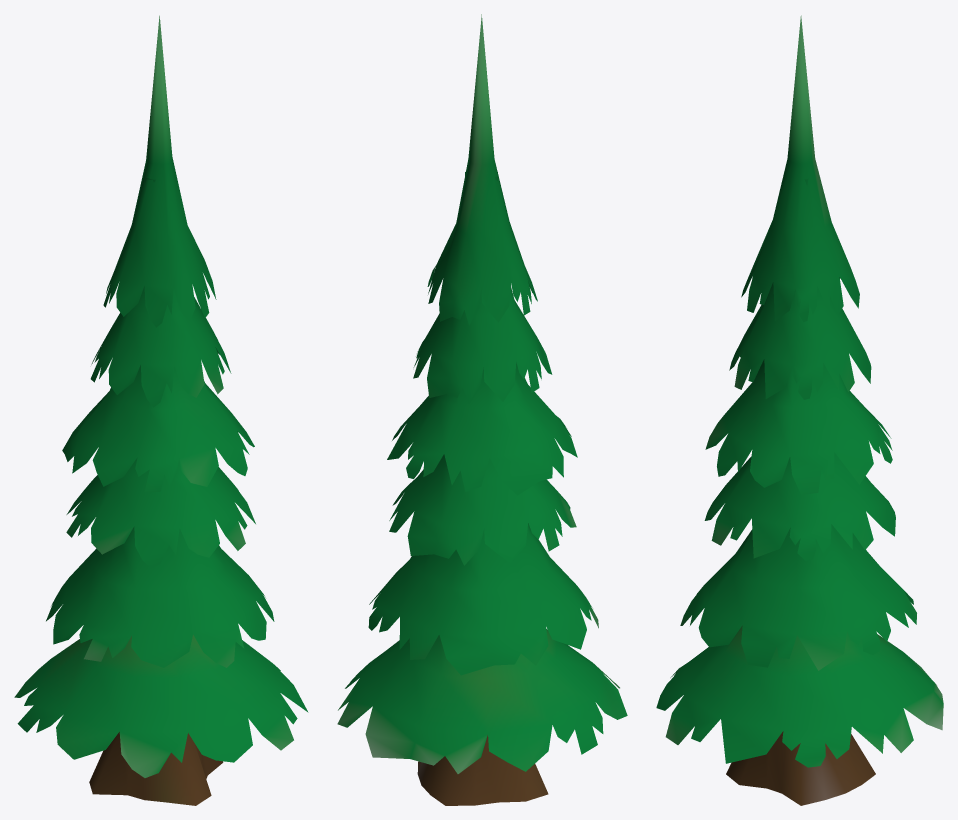
The model's file is Tree.fbx.
3 views of the same model, side by side, from view 1: azimuth 30°, elevation 25°; view 2: azimuth 150°, elevation 25°; view 3: azimuth 270°, elevation 25° (orthographic).
Visible parts, largest first — view 1: tree_low.001; view 2: tree_low.001; view 3: tree_low.001.
Boxes of the visible parts, <box> form: tree_low.001: <box>14,15,308,805</box>; tree_low.001: <box>337,14,627,805</box>; tree_low.001: <box>656,15,943,805</box>.
Bounding box in the file's own units: 158 × 463 × 158.
